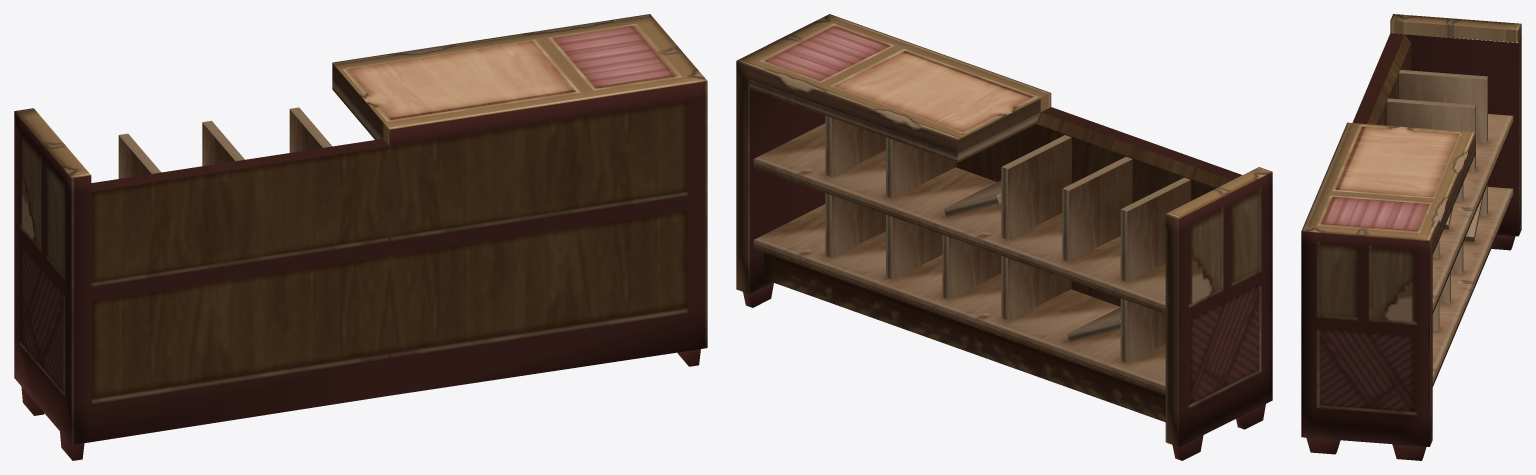
The model's file is a_SWGfoot01b04.glb.
3 views of the same model, side by side, from view 1: azimuth 30°, elevation 25°; view 2: azimuth 150°, elevation 25°; view 3: azimuth 270°, elevation 25° (orthographic). The views are drawn at different scales.
Visible parts, largest first — view 1: a_SWGfoot01b04; view 2: a_SWGfoot01b04; view 3: a_SWGfoot01b04.
Part boxes in pixels (box(x1,y1,x2,y2)): a_SWGfoot01b04: box(14, 14, 707, 460); a_SWGfoot01b04: box(736, 14, 1272, 460); a_SWGfoot01b04: box(1301, 14, 1521, 460).
Size of the model in its own units: 2.88 by 1.32 by 1.18.
1 material, 1 textured.
